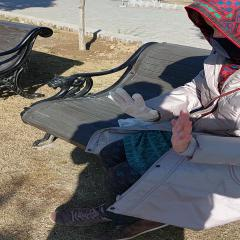gloved: (108, 89, 158, 121)
not-gloved: (172, 109, 192, 154)
